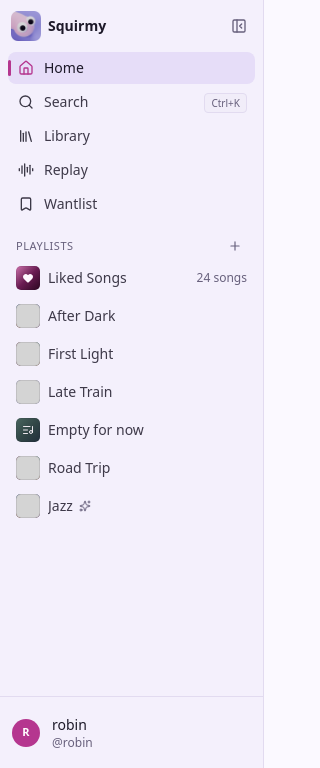
Test: Sidebar › account menu › names someone without a display name by their username
This screenshot has width=320, height=768.
Click the button "R robin @robin": (132, 732) [8, 712, 255, 752]
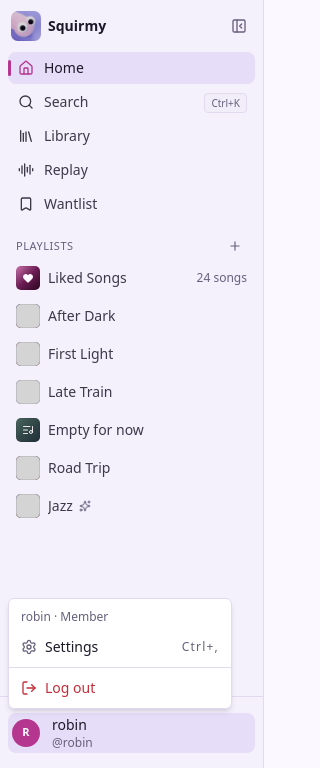
Result: the text "robin · Member" is shown at [21, 608, 108, 625]
